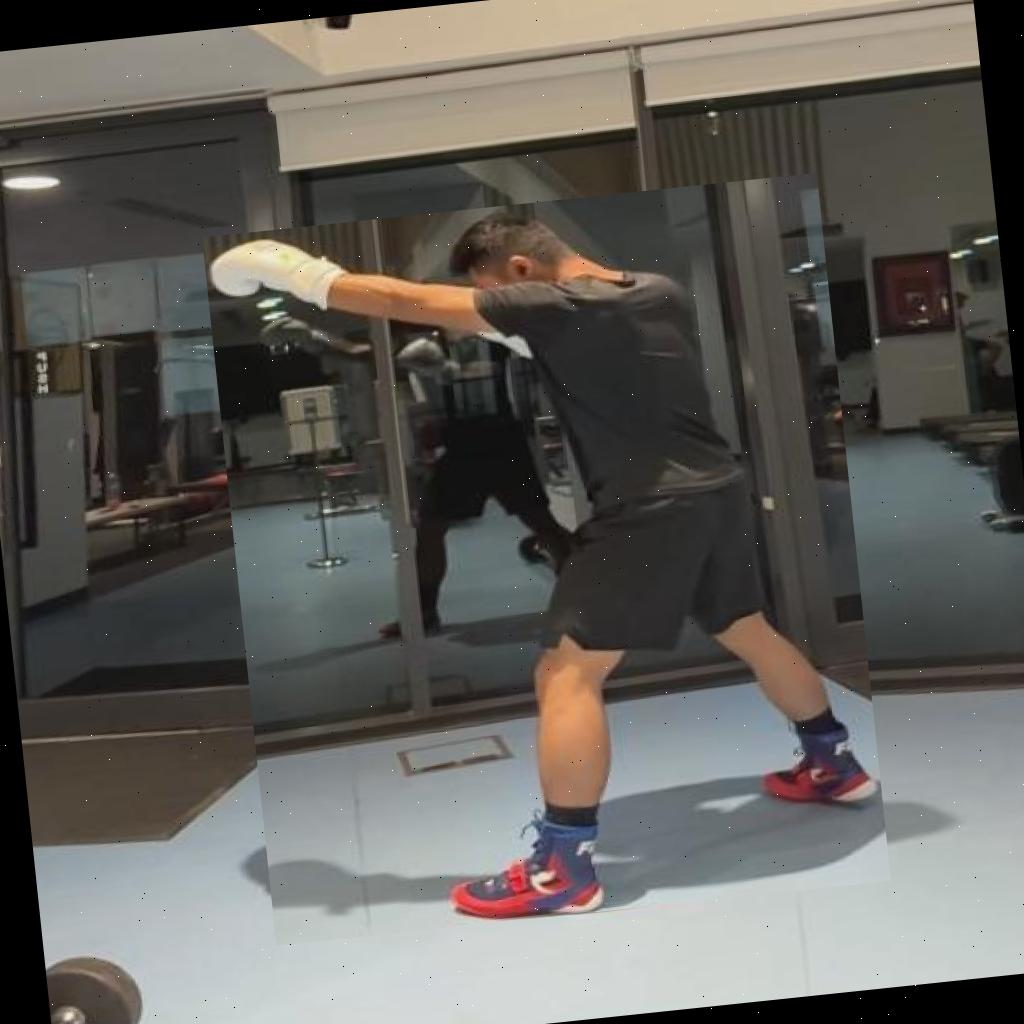jab: (202, 172, 891, 945)
